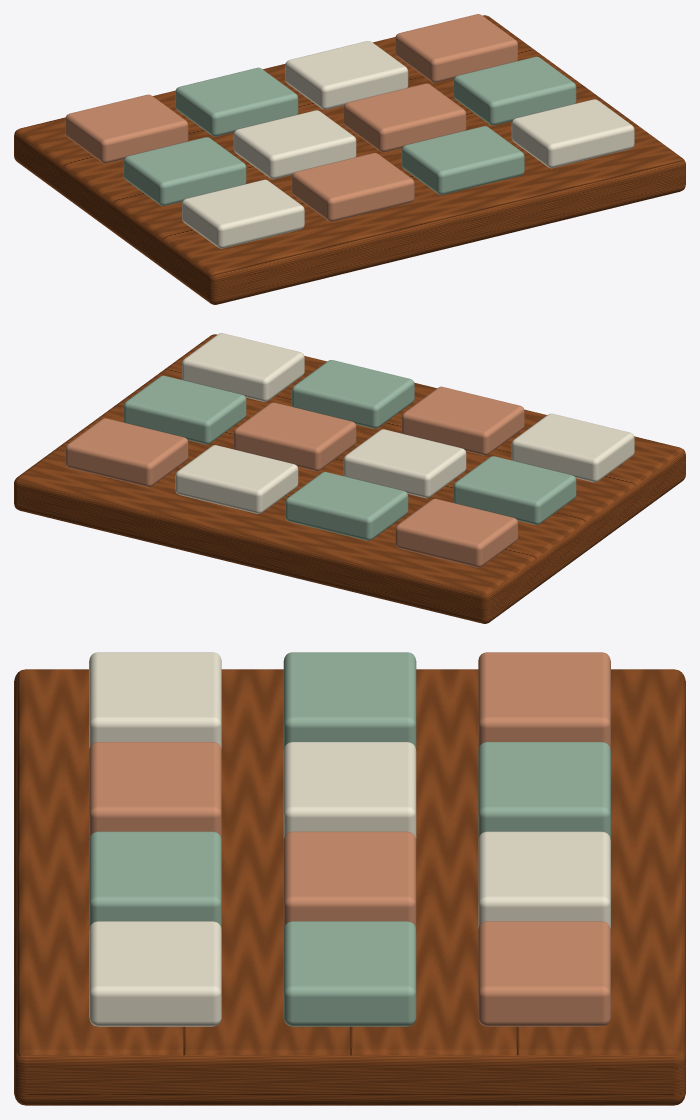
Rendered from ceramics-pottery-studio-test-tile-board-fd4f865b__29508.glb.
3 views of the same model, one above another, from view 1: azimuth 30°, elevation 25°; view 2: azimuth 150°, elevation 25°; view 3: azimuth 270°, elevation 25° (orthographic). The views are drawn at different scales.
Parts seen in each view (by area): view 1: test-tile-board; view 2: test-tile-board; view 3: test-tile-board.
Part boxes in pixels (x1=…): test-tile-board: x1=14, y1=14, x2=685, y2=304; test-tile-board: x1=14, y1=333, x2=685, y2=623; test-tile-board: x1=14, y1=652, x2=685, y2=1105.
Size of the model in its own units: 0.52 by 0.06 by 0.38.
Materials: 4 (1 with a texture image).
